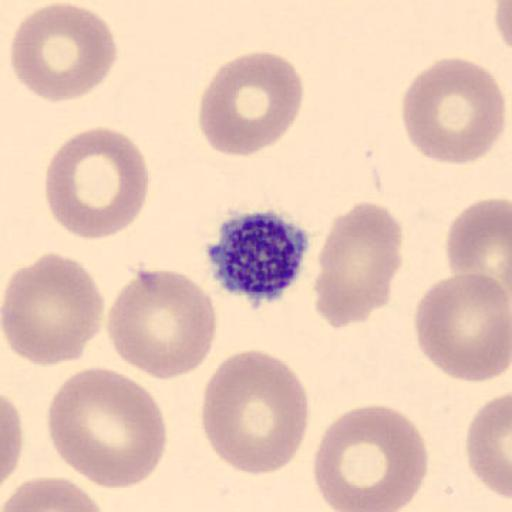Platelet: (206, 208, 310, 308)
RBC: (46, 366, 169, 492), (200, 347, 312, 477), (105, 268, 219, 382), (312, 403, 430, 512), (44, 125, 151, 242), (0, 250, 105, 368), (198, 48, 305, 158), (400, 55, 506, 166), (314, 200, 404, 330), (413, 270, 511, 384), (10, 0, 118, 103), (445, 197, 512, 304), (466, 391, 512, 502), (2, 475, 106, 512), (0, 393, 23, 494), (493, 0, 512, 51)
